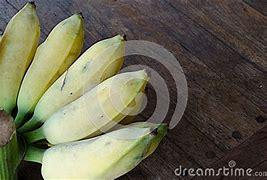banana: (0, 9, 163, 179), (44, 123, 162, 180)
